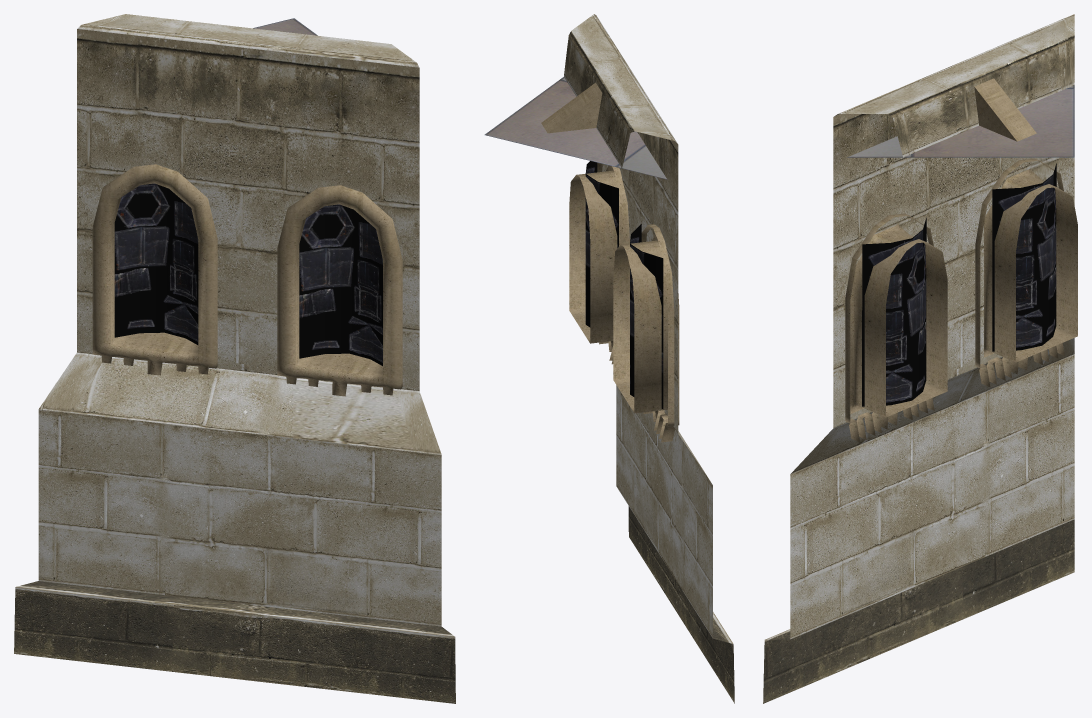
Rendered from castle-wall-45d-w-window-small-2.fbx.
3 renders of one model, left to right at view 1: azimuth 30°, elevation 25°; view 2: azimuth 150°, elevation 25°; view 3: azimuth 270°, elevation 25°, orthographic. The views are drawn at different scales.
Parts seen in each view (by area): view 1: castle-wall-45d-w-window-small-2; view 2: castle-wall-45d-w-window-small-2; view 3: castle-wall-45d-w-window-small-2.
Boxes of the visible parts, x1,y1,x2,y2 form: castle-wall-45d-w-window-small-2: (14,14,455,703); castle-wall-45d-w-window-small-2: (484,14,734,703); castle-wall-45d-w-window-small-2: (763,14,1077,703).
Size of the model in its own units: 193 by 400 by 193.
